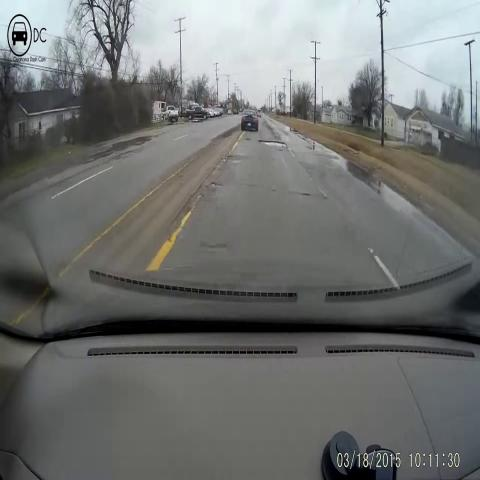pothole: (255, 128, 294, 160), (296, 177, 319, 211), (202, 172, 228, 202)
